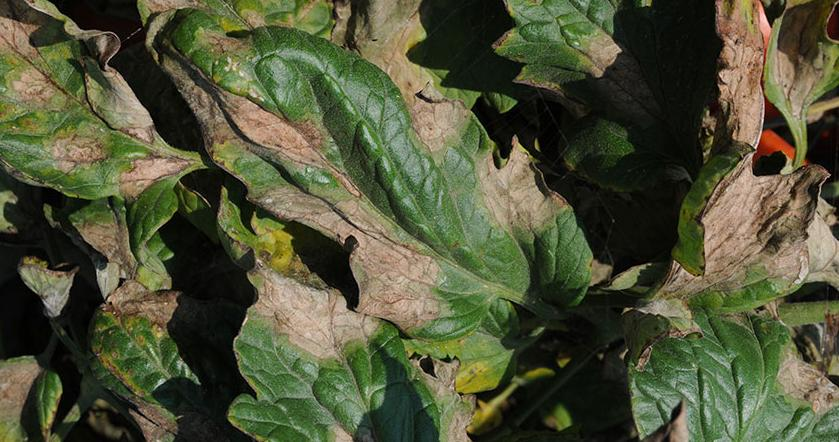Tomato leaf late blight: (149, 0, 606, 333), (621, 79, 839, 374), (215, 250, 511, 442), (0, 0, 206, 216), (476, 0, 716, 154), (595, 313, 839, 442)
